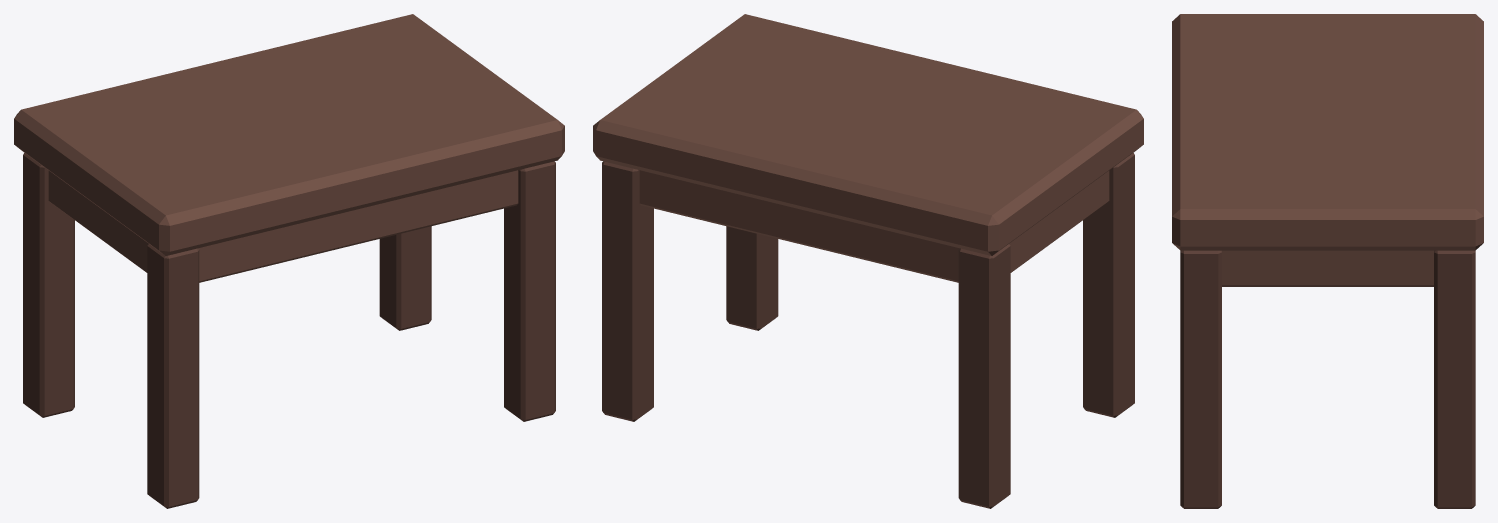
The model's file is table_fer.glb.
3 views of the same model, side by side, from view 1: azimuth 30°, elevation 25°; view 2: azimuth 150°, elevation 25°; view 3: azimuth 270°, elevation 25° (orthographic). The views are drawn at different scales.
Visible parts, largest first — view 1: table_fer; view 2: table_fer; view 3: table_fer.
Boxes of the visible parts, box(x1,y1,x2,y2) form: table_fer: box(14, 14, 564, 508); table_fer: box(593, 14, 1143, 508); table_fer: box(1172, 14, 1483, 508).
Bounding box in the file's own units: 1.15 × 0.8 × 0.75.
1 material, 1 textured.
